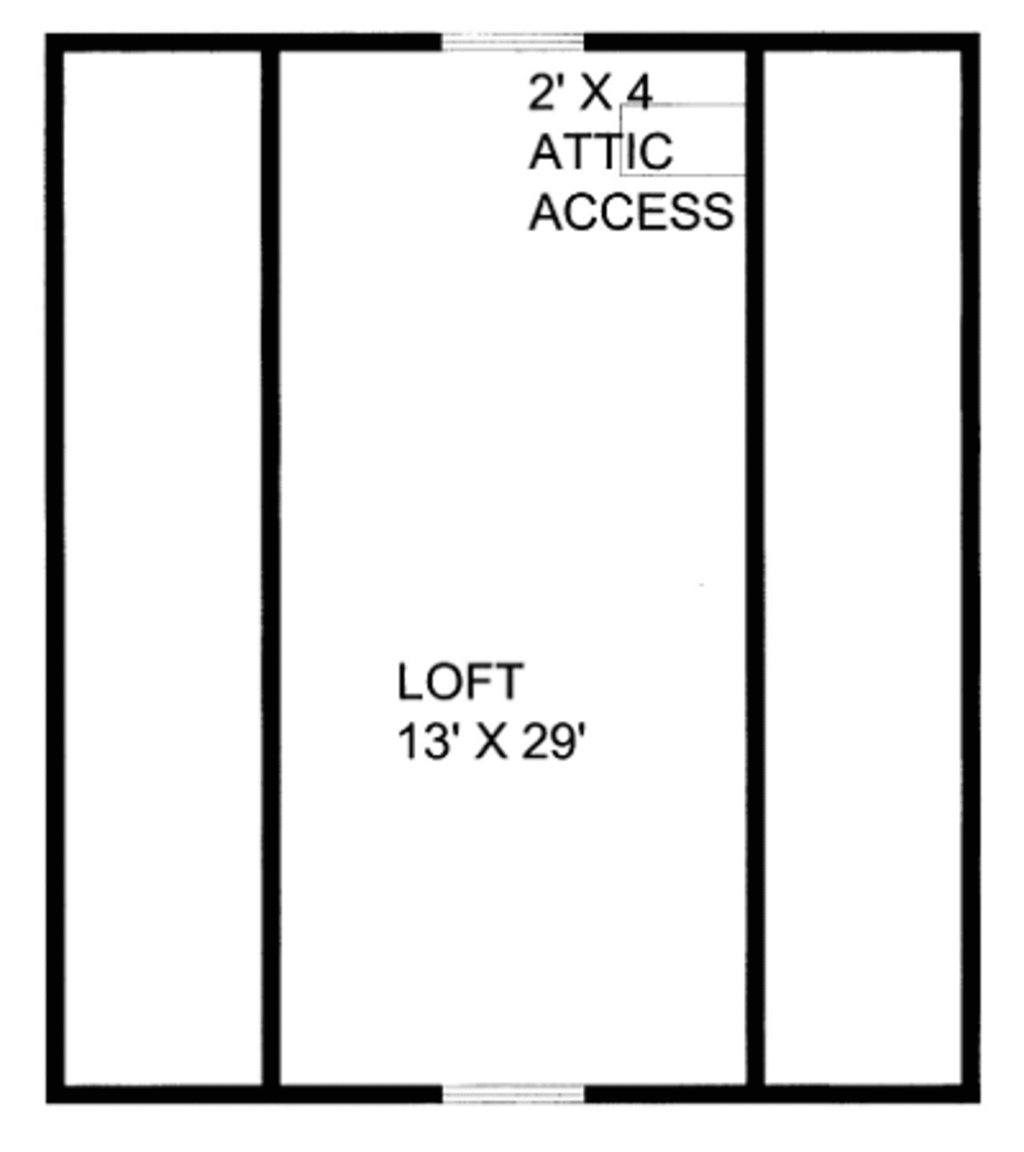window: (434, 31, 596, 58), (434, 1079, 596, 1101)
